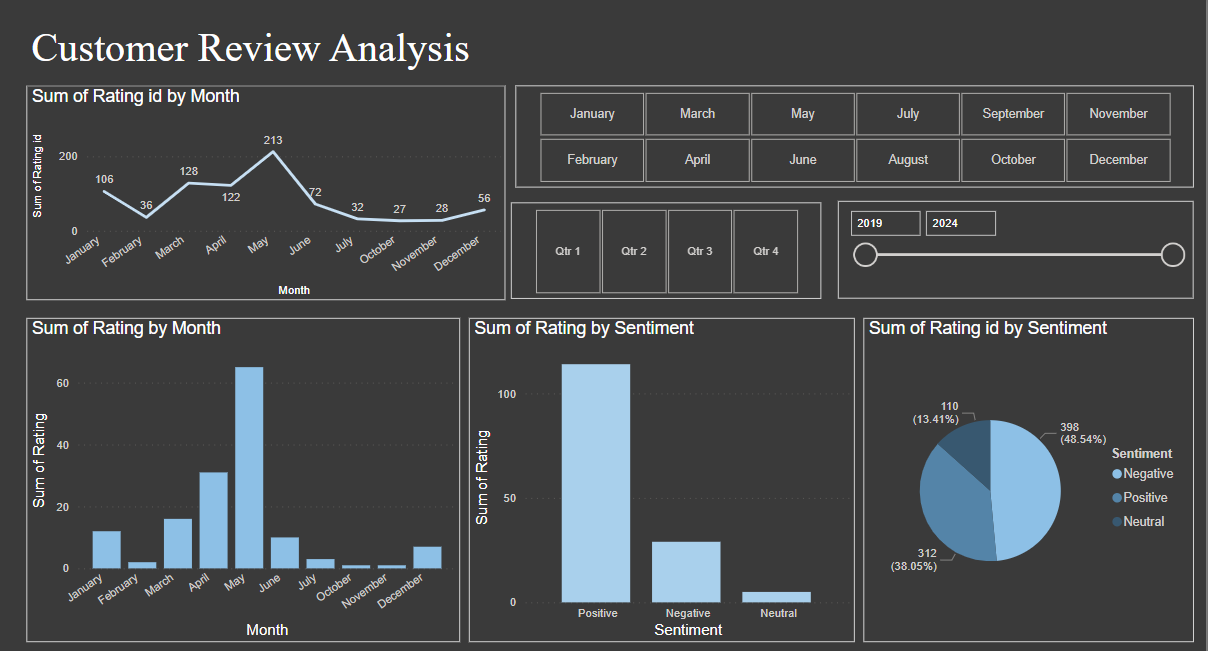

What the dashboard file says about the page in this screenshot:
{"tool":"powerbi","page":{"name":"Page 1","canvas":[1280,720],"ordinal":0},"visuals":[{"type":"columnChart","fields":{"Y":["Sum(Sheet1.Rating)"],"Category":["Sheet1.Review Date.Variation.Date Hierarchy.Month"]},"box":[30.2,346.5,459.3,343.3],"z":0},{"type":"columnChart","fields":{"Category":["Sheet1.Sentiment"],"Y":["Sum(Sheet1.Rating)"]},"box":[499.1,346.5,408.5,343.3],"z":1000},{"type":"pieChart","fields":{"Category":["Sheet1.Sentiment"],"Y":["Sum(Sheet1.Rating id)"]},"box":[917.1,346.5,349.7,343.3],"z":2000},{"type":"slicer","fields":{"Values":["Sheet1.Review Date.Variation.Date Hierarchy.Month"]},"box":[548.3,100.1,718.4,108.1],"z":3000},{"type":"lineChart","fields":{"Y":["Sum(Sheet1.Rating id)"],"Category":["Sheet1.Review Date.Variation.Date Hierarchy.Month"]},"box":[30.2,100.1,507,227.3],"z":4000},{"type":"slicer","fields":{"Values":["Sheet1.Review Date.Variation.Date Hierarchy.Year"]},"box":[890.1,222.5,376.7,103.3],"z":5000},{"type":"slicer","fields":{"Values":["Sheet1.Review Date.Variation.Date Hierarchy.Quarter"]},"box":[544.3,224.9,328.8,102],"z":6000},{"type":"textbox","box":[30.2,30.2,506.5,69.9],"z":7000}]}

Visuals, with their boxes in screenshot pixels (x1, y1, x2, y2):
columnChart - Sum(Sheet1.Rating) x Sheet1.Review Date.Variation.Date Hierarchy.Month: <region>34, 317, 459, 635</region>
columnChart - Sheet1.Sentiment x Sum(Sheet1.Rating): <region>468, 317, 846, 635</region>
pieChart - Sheet1.Sentiment x Sum(Sheet1.Rating id): <region>854, 317, 1178, 635</region>
slicer - Sheet1.Review Date.Variation.Date Hierarchy.Month: <region>513, 89, 1178, 189</region>
lineChart - Sum(Sheet1.Rating id) x Sheet1.Review Date.Variation.Date Hierarchy.Month: <region>34, 89, 503, 300</region>
slicer - Sheet1.Review Date.Variation.Date Hierarchy.Year: <region>829, 203, 1178, 298</region>
slicer - Sheet1.Review Date.Variation.Date Hierarchy.Quarter: <region>510, 205, 814, 299</region>
textbox: <region>34, 25, 503, 89</region>
